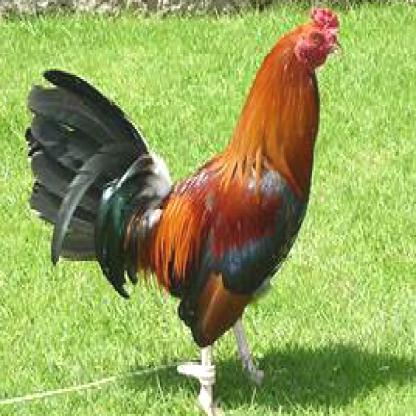chicken: (23, 8, 343, 414)
